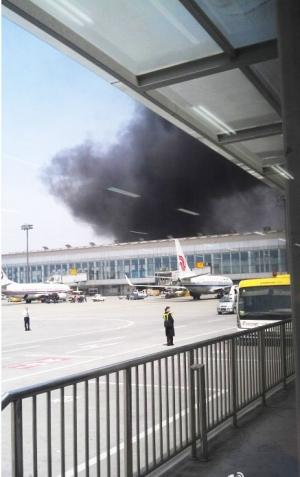smoke: (47, 120, 255, 243)
